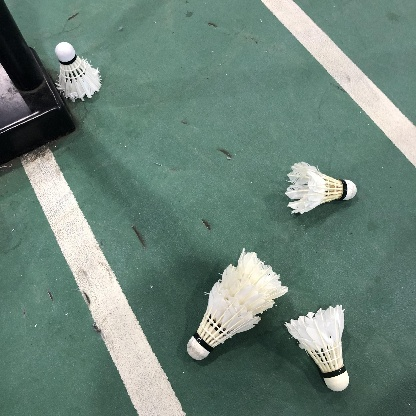ball_single: (187, 248, 288, 360), (285, 304, 349, 391), (285, 161, 357, 214), (55, 42, 101, 102)
